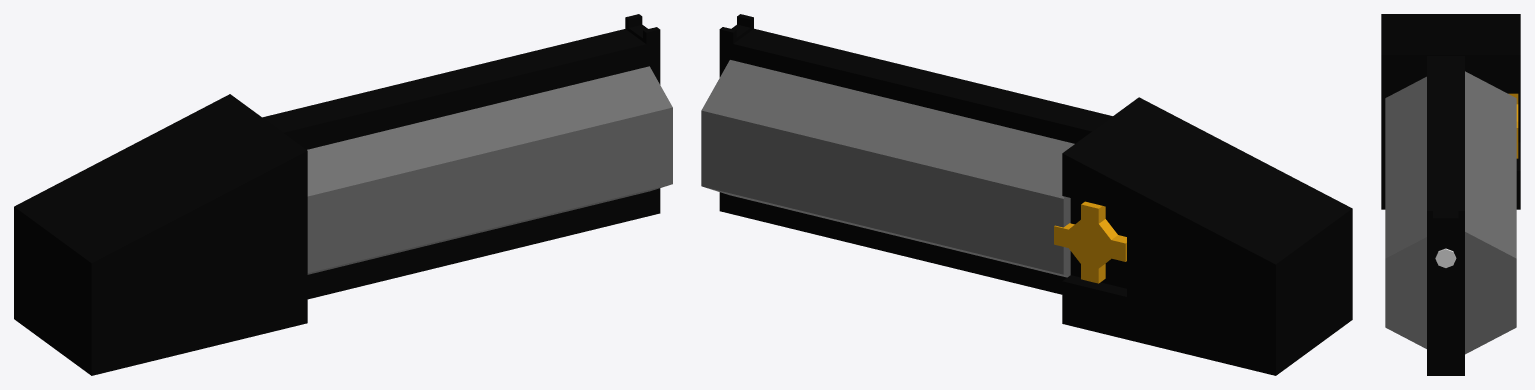
Rendered from pistol.fbx.
3 views of the same model, side by side, from view 1: azimuth 30°, elevation 25°; view 2: azimuth 150°, elevation 25°; view 3: azimuth 270°, elevation 25° (orthographic). The views are drawn at different scales.
Visible parts, largest first — view 1: Cube, Cylinder, Ram-for-cylinder; view 2: Cube, Cylinder, Ram-for-cylinder, Cog; view 3: Cylinder, Ram-for-cylinder, Cube, Out, Cog.
Part boxes in pixels (x1,y1,x2,y2): Cube: [14, 94, 307, 375]; Cylinder: [307, 66, 672, 274]; Ram-for-cylinder: [262, 14, 660, 299]; Cube: [1062, 97, 1352, 375]; Cylinder: [701, 60, 1074, 277]; Ram-for-cylinder: [719, 14, 1112, 294]; Cog: [1054, 201, 1126, 283]; Cylinder: [1385, 71, 1516, 354]; Ram-for-cylinder: [1427, 56, 1464, 375]; Cube: [1381, 14, 1520, 209]; Out: [1435, 248, 1456, 267]; Cog: [1508, 93, 1518, 158].
Bounding box in the file's own units: 130 × 38.39 × 29.34.
